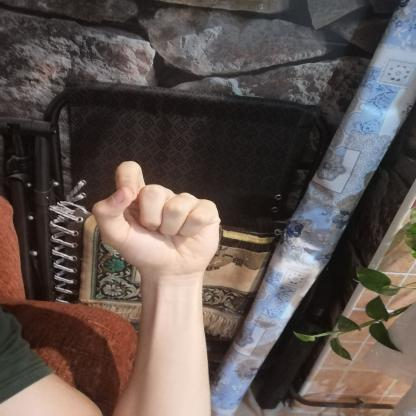FAA: (81, 152, 234, 284)
